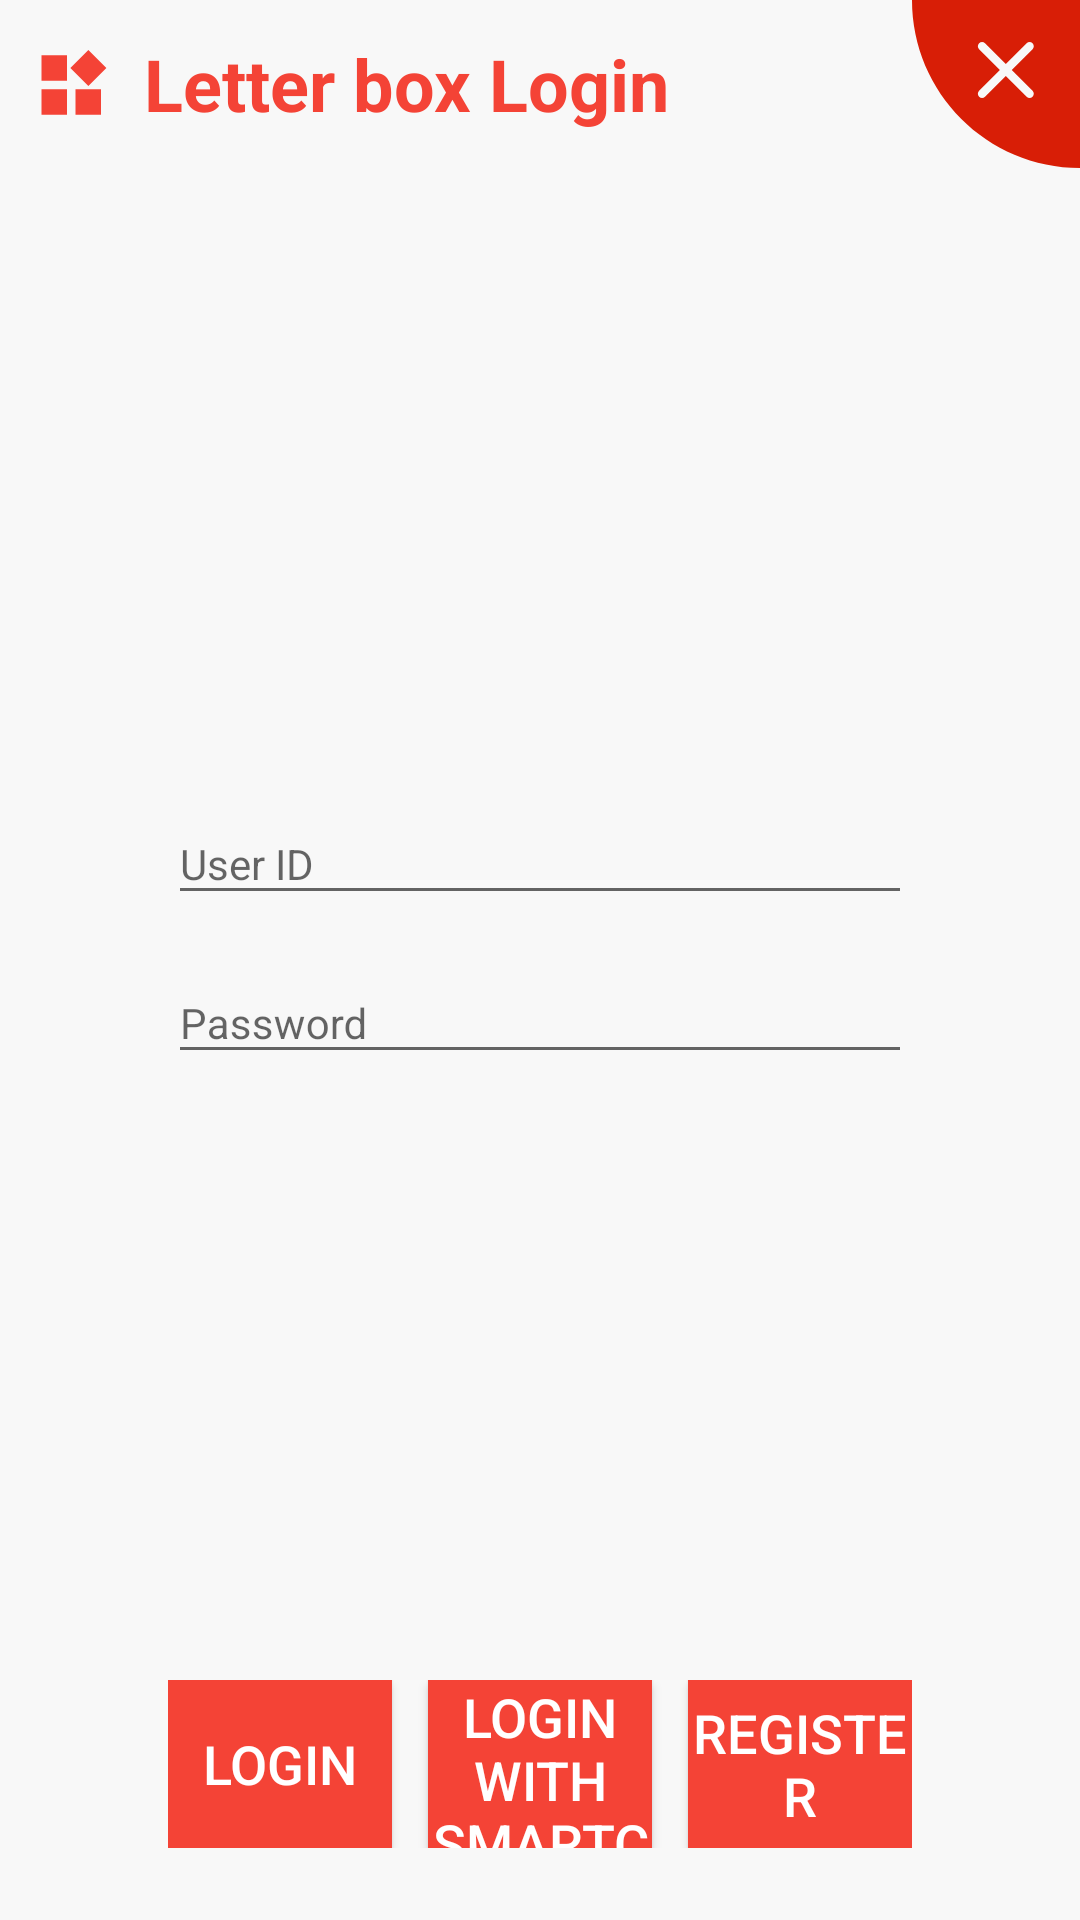

Locate icon controls on the screen. Image size 1080x1920, boxes as (x1, y1, x2, y2).
close: (912, 0, 1080, 168)
